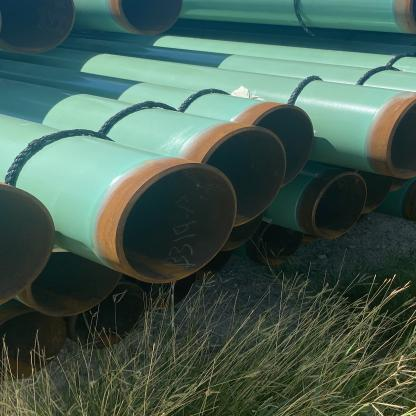clean: (119, 182, 164, 216)
